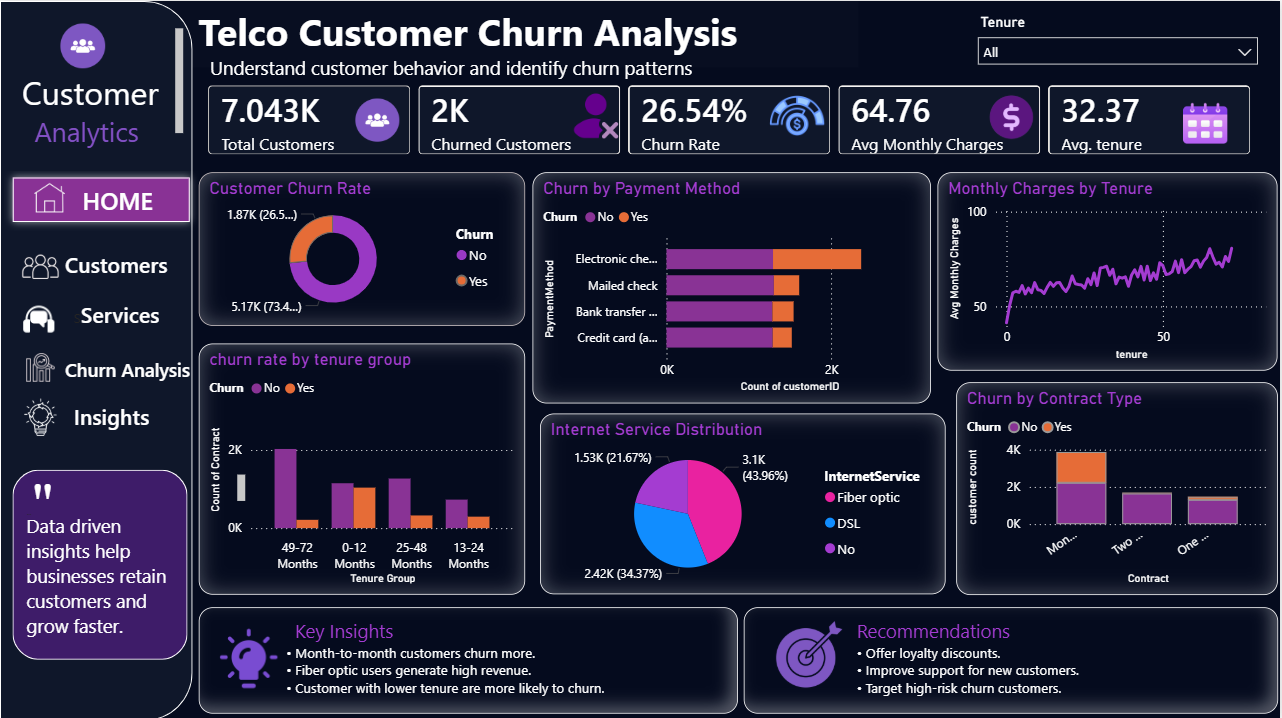

Layout of this report page (visuals, bound fields, positions):
{"tool":"powerbi","page":{"name":"Page 1","canvas":[1280,720],"ordinal":0},"visuals":[{"type":"textbox","box":[77.2,0,780.6,66.4],"z":0},{"type":"textbox","box":[205.1,48.3,717.8,38.6],"z":1000},{"type":"donutChart","title":"Customer Churn Rate","fields":{"Category":["WA_Fn-UseC_-Telco-Customer-Churn.Churn"],"Y":["CountNonNull(WA_Fn-UseC_-Telco-Customer-Churn.customerID)"]},"box":[198.8,171.2,326.2,153.8],"z":2000},{"type":"columnChart","title":"Churn by Contract Type","fields":{"Category":["WA_Fn-UseC_-Telco-Customer-Churn.Contract"],"Y":["CountNonNull(WA_Fn-UseC_-Telco-Customer-Churn.customerID)"],"Series":["WA_Fn-UseC_-Telco-Customer-Churn.Churn"]},"box":[956.2,381.2,321.2,212.5],"z":3000},{"type":"pieChart","title":"Internet Service Distribution","fields":{"Category":["WA_Fn-UseC_-Telco-Customer-Churn.InternetService"],"Y":["CountNonNull(WA_Fn-UseC_-Telco-Customer-Churn.customerID)"]},"box":[540.5,412.6,405.4,181],"z":4000},{"type":"lineChart","title":"Monthly Charges by Tenure","fields":{"Category":["WA_Fn-UseC_-Telco-Customer-Churn.tenure"],"Y":["Avg(WA_Fn-UseC_-Telco-Customer-Churn.MonthlyCharges)"]},"box":[937.5,171.2,340,198.8],"z":5000},{"type":"barChart","title":"Churn by Payment Method","fields":{"Category":["WA_Fn-UseC_-Telco-Customer-Churn.PaymentMethod"],"Y":["CountNonNull(WA_Fn-UseC_-Telco-Customer-Churn.customerID)"],"Series":["WA_Fn-UseC_-Telco-Customer-Churn.Churn"]},"box":[532.5,171.2,398.8,231.2],"z":6000},{"type":"lineClusteredColumnComboChart","title":"churn rate by tenure group","fields":{"Category":["WA_Fn-UseC_-Telco-Customer-Churn.Tenure Group"],"Y":["CountNonNull(WA_Fn-UseC_-Telco-Customer-Churn.Contract)"],"Series":["WA_Fn-UseC_-Telco-Customer-Churn.Churn"]},"box":[198.8,342.5,326.2,251.2],"z":7000},{"type":"shape","box":[0,0,192.5,720],"z":8000},{"type":"textbox","box":[0,22,188,130],"z":9000},{"type":"textbox","box":[199.1,605.6,539.3,106.2],"z":10000},{"type":"image","box":[178.6,626.1,139.9,62.7],"z":11000},{"type":"textbox","box":[743.2,605.6,534.5,106.2],"z":12000},{"type":"image","box":[662.3,614.1,294.4,78.4],"z":13000},{"type":"cardVisual","fields":{"Data":["Count(WA_Fn-UseC_-Telco-Customer-Churn.customerID)","WA_Fn-UseC_-Telco-Customer-Churn.Churn Customers","WA_Fn-UseC_-Telco-Customer-Churn.Churn Rate %","Avg(WA_Fn-UseC_-Telco-Customer-Churn.MonthlyCharges)","Avg(WA_Fn-UseC_-Telco-Customer-Churn.tenure)"]},"box":[191.2,67.5,1078.8,103.8],"z":14000},{"type":"image","box":[353.5,97.7,47.1,43.4],"z":15000},{"type":"image","box":[767.3,86.9,59.1,56.7],"z":16000},{"type":"image","box":[974.8,83.2,72.4,65.1],"z":17000},{"type":"image","box":[1171.5,98.9,67.6,47.1],"z":18000},{"type":"image","box":[564.6,90.5,61.5,49.5],"z":19000},{"type":"slicer","fields":{"Values":["WA_Fn-UseC_-Telco-Customer-Churn.tenure"]},"box":[967.5,7.5,300,60],"z":20000},{"type":"shape","box":[3.8,167.5,195,62.5],"z":20001},{"type":"textbox","box":[77.5,178.8,110,51.2],"z":20002},{"type":"textbox","box":[60,243.8,138.8,50],"z":20004},{"type":"textbox","box":[68.8,293.8,381.2,48.8],"z":20005},{"type":"textbox","box":[60,351.2,188.8,45],"z":20006},{"type":"textbox","box":[68.8,396.2,122.5,50],"z":20007},{"type":"image","box":[21.2,243.8,38.8,43.8],"z":20008},{"type":"image","box":[0,171.2,98.8,51.2],"z":20009},{"type":"image","box":[0,302.5,77.5,31.2],"z":20010},{"type":"image","box":[12.5,351.2,56.2,30],"z":20011},{"type":"image","box":[12.5,396.2,56.2,40],"z":20012},{"type":"shape","box":[12.5,468.8,175,190],"z":20013},{"type":"textbox","box":[100,230,300,170],"z":20014},{"type":"textbox","box":[21.2,507.5,157.5,168.8],"z":20015},{"type":"textbox","box":[21.2,468.8,228.8,50],"z":20016},{"type":"image","box":[50,22.5,65,45],"z":20017}]}

Visuals, with their boxes in screenshot pixels (x1, y1, x2, y2), scaled from the page's 1280x720 canvas onto the 1282x718 screenshot:
textbox: (left=77, top=0, right=859, bottom=66)
textbox: (left=205, top=48, right=924, bottom=87)
"Customer Churn Rate" donutChart: (left=199, top=171, right=526, bottom=324)
"Churn by Contract Type" columnChart: (left=958, top=380, right=1279, bottom=592)
"Internet Service Distribution" pieChart: (left=541, top=411, right=947, bottom=592)
"Monthly Charges by Tenure" lineChart: (left=939, top=171, right=1279, bottom=369)
"Churn by Payment Method" barChart: (left=533, top=171, right=933, bottom=401)
"churn rate by tenure group" lineClusteredColumnComboChart: (left=199, top=342, right=526, bottom=592)
shape: (left=0, top=0, right=193, bottom=717)
textbox: (left=0, top=22, right=188, bottom=152)
textbox: (left=199, top=604, right=740, bottom=710)
image: (left=179, top=624, right=319, bottom=687)
textbox: (left=744, top=604, right=1280, bottom=710)
image: (left=663, top=612, right=958, bottom=691)
cardVisual - Count(WA_Fn-UseC_-Telco-Customer-Churn.customerID) x WA_Fn-UseC_-Telco-Customer-Churn.Churn Customers: (left=191, top=67, right=1272, bottom=171)
image: (left=354, top=97, right=401, bottom=141)
image: (left=768, top=87, right=828, bottom=143)
image: (left=976, top=83, right=1049, bottom=148)
image: (left=1173, top=99, right=1241, bottom=146)
image: (left=565, top=90, right=627, bottom=140)
slicer - WA_Fn-UseC_-Telco-Customer-Churn.tenure: (left=969, top=7, right=1269, bottom=67)
shape: (left=4, top=167, right=199, bottom=229)
textbox: (left=78, top=178, right=188, bottom=229)
textbox: (left=60, top=243, right=199, bottom=293)
textbox: (left=69, top=293, right=451, bottom=342)
textbox: (left=60, top=350, right=249, bottom=395)
textbox: (left=69, top=395, right=192, bottom=445)
image: (left=21, top=243, right=60, bottom=287)
image: (left=0, top=171, right=99, bottom=222)
image: (left=0, top=302, right=78, bottom=333)
image: (left=13, top=350, right=69, bottom=380)
image: (left=13, top=395, right=69, bottom=435)
shape: (left=13, top=467, right=188, bottom=657)
textbox: (left=100, top=229, right=401, bottom=399)
textbox: (left=21, top=506, right=179, bottom=674)
textbox: (left=21, top=467, right=250, bottom=517)
image: (left=50, top=22, right=115, bottom=67)
